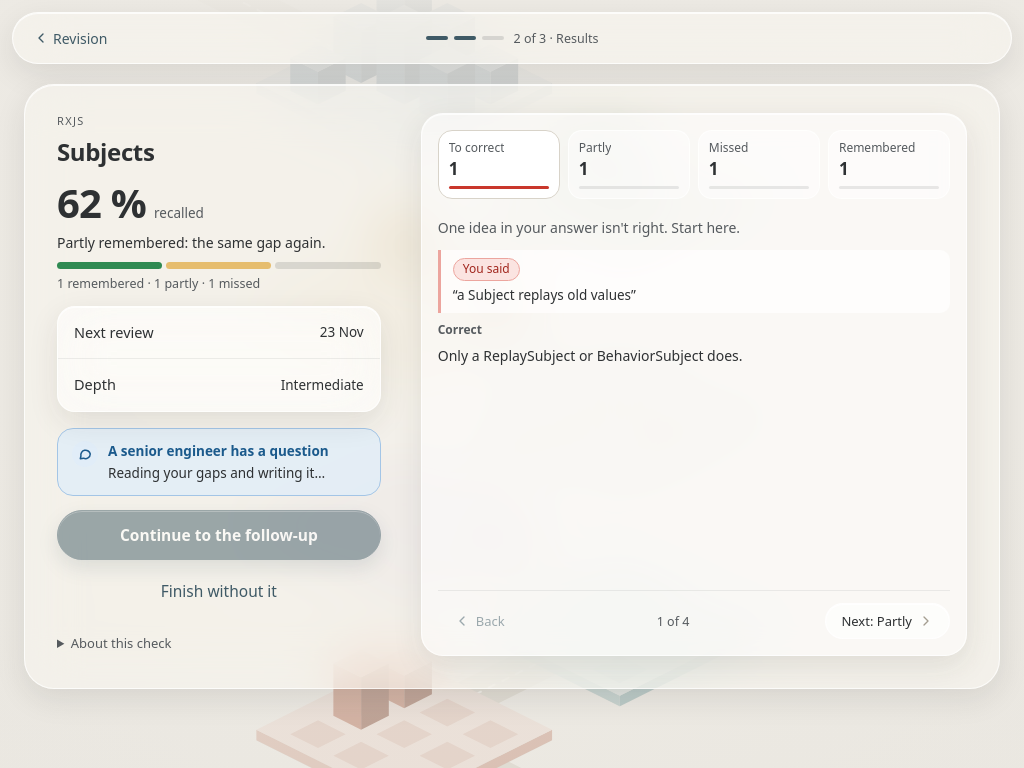
recall page › lets the follow-up be skipped: the verdict is written from the unprompted recall
The image size is (1024, 768).
Click the button "Finish without it" at (219, 591), box [57,566,381,616]
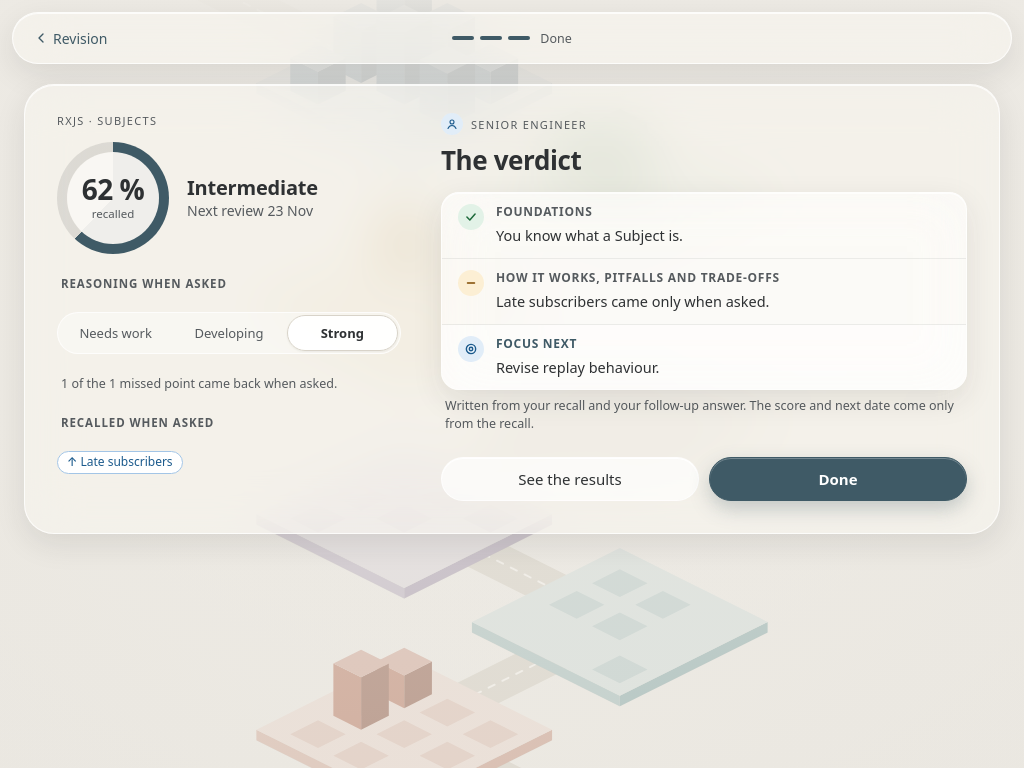
Expected: the list named "Senior engineer's verdict" is shown, [441,192,967,390]
